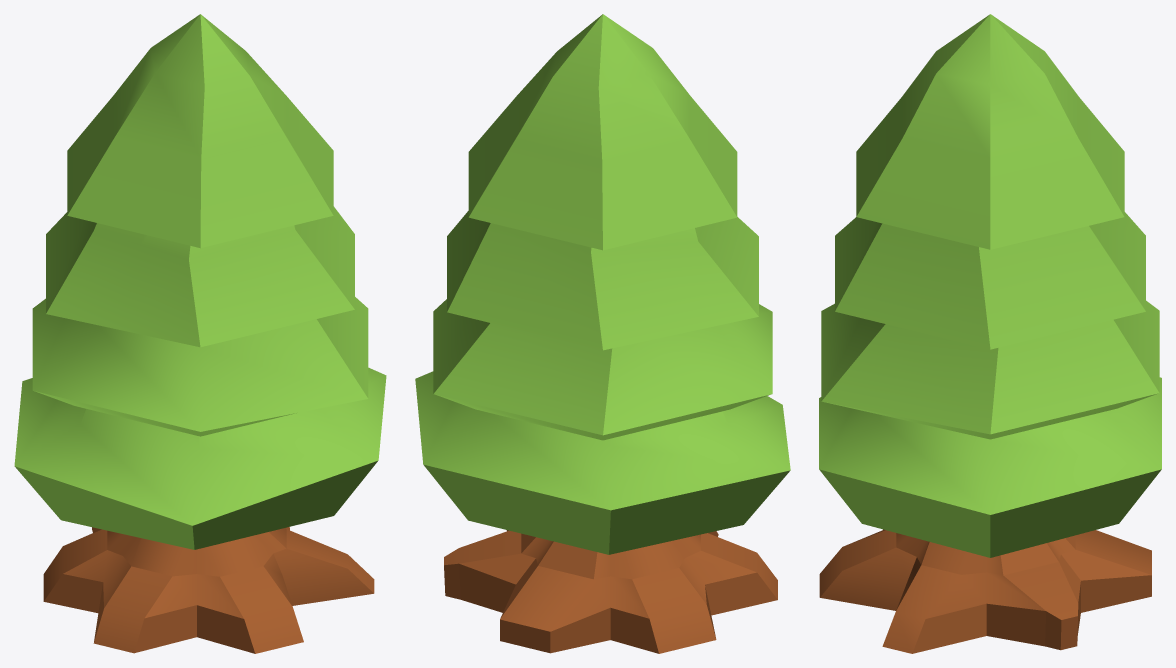
Rendered from TreeObstacle.fbx.
The picture shows the model from 3 angles, left to right: view 1: azimuth 30°, elevation 25°; view 2: azimuth 150°, elevation 25°; view 3: azimuth 270°, elevation 25°; orthographic projection.
Parts seen in each view (by area): view 1: Null_1; view 2: Null_1; view 3: Null_1.
Part boxes in pixels (box(x1,y1,x2,y2)): Null_1: box(14, 14, 386, 653); Null_1: box(415, 14, 790, 653); Null_1: box(819, 14, 1161, 653).
Bounding box in the file's own units: 75.53 × 111 × 59.87.
